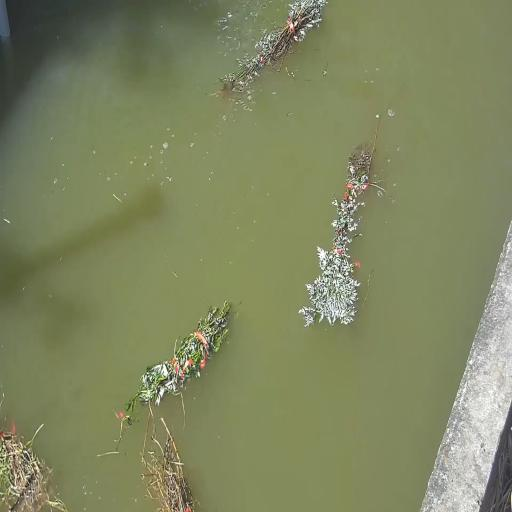twig: (299, 110, 389, 327), (126, 302, 230, 414), (209, 0, 327, 95), (138, 390, 195, 511), (0, 423, 67, 512)
